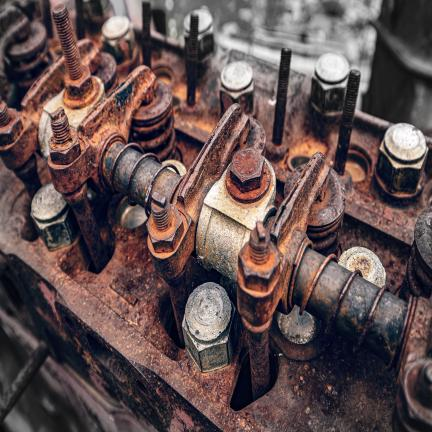besi_tidak_karat: (196, 159, 276, 290), (38, 78, 105, 162), (182, 282, 237, 372), (30, 181, 79, 250), (338, 246, 386, 288), (384, 123, 426, 162), (315, 53, 349, 84), (221, 61, 253, 92)
karat: (147, 108, 249, 332), (72, 194, 180, 359), (48, 66, 155, 195), (0, 59, 66, 170), (53, 3, 83, 79), (63, 66, 100, 109), (230, 148, 264, 192)
